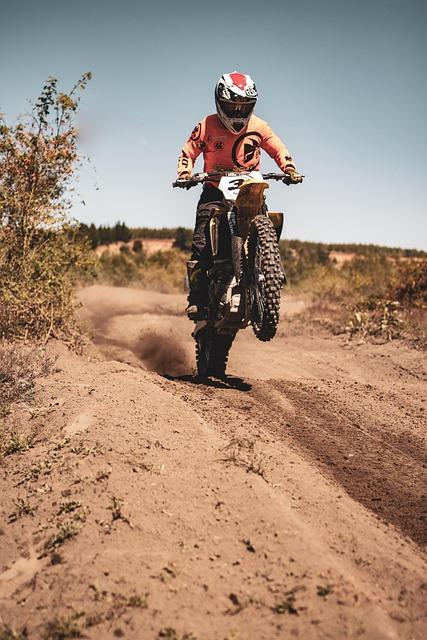Non_Gorille: (128, 30, 299, 410)
